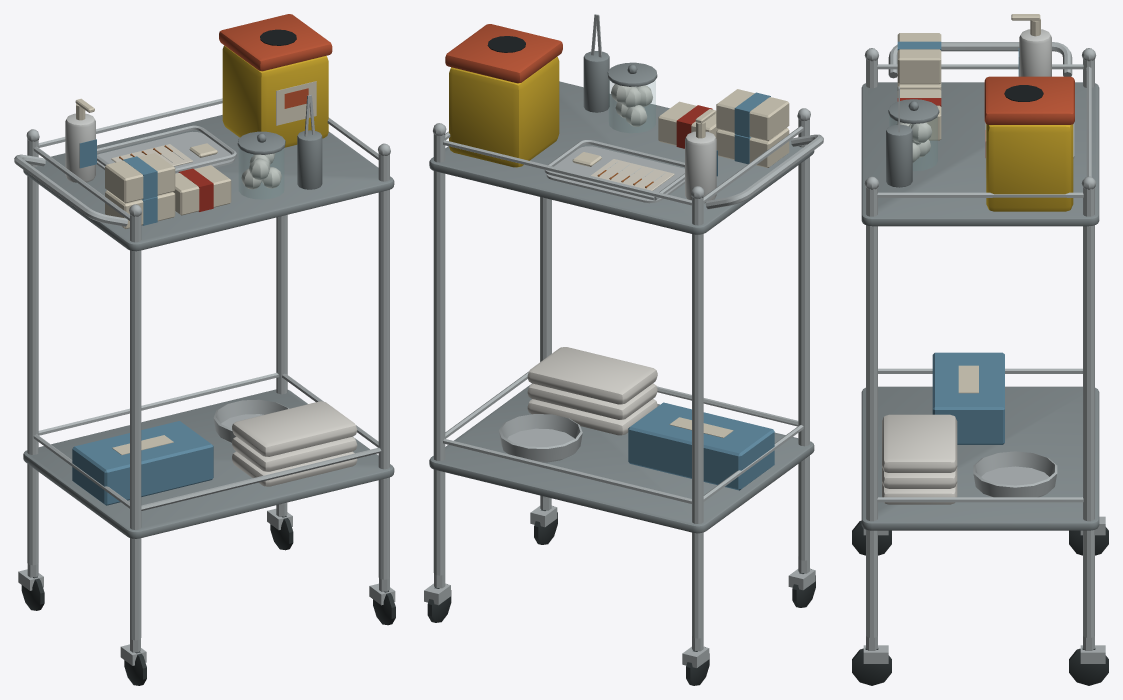
Rendered from acu-needle-trolley.glb.
3 renders of one model, left to right at view 1: azimuth 30°, elevation 25°; view 2: azimuth 150°, elevation 25°; view 3: azimuth 270°, elevation 25°, orthographic. The views are drawn at different scales.
Parts seen in each view (by area): view 1: acu-needle-trolley; view 2: acu-needle-trolley; view 3: acu-needle-trolley.
Boxes of the visible parts, box(x1,y1,x2,y2) form: acu-needle-trolley: box(14, 14, 395, 685); acu-needle-trolley: box(424, 14, 823, 685); acu-needle-trolley: box(852, 14, 1108, 685).
Bounding box in the file's own units: 0.6124 × 1.09 × 0.4425.
